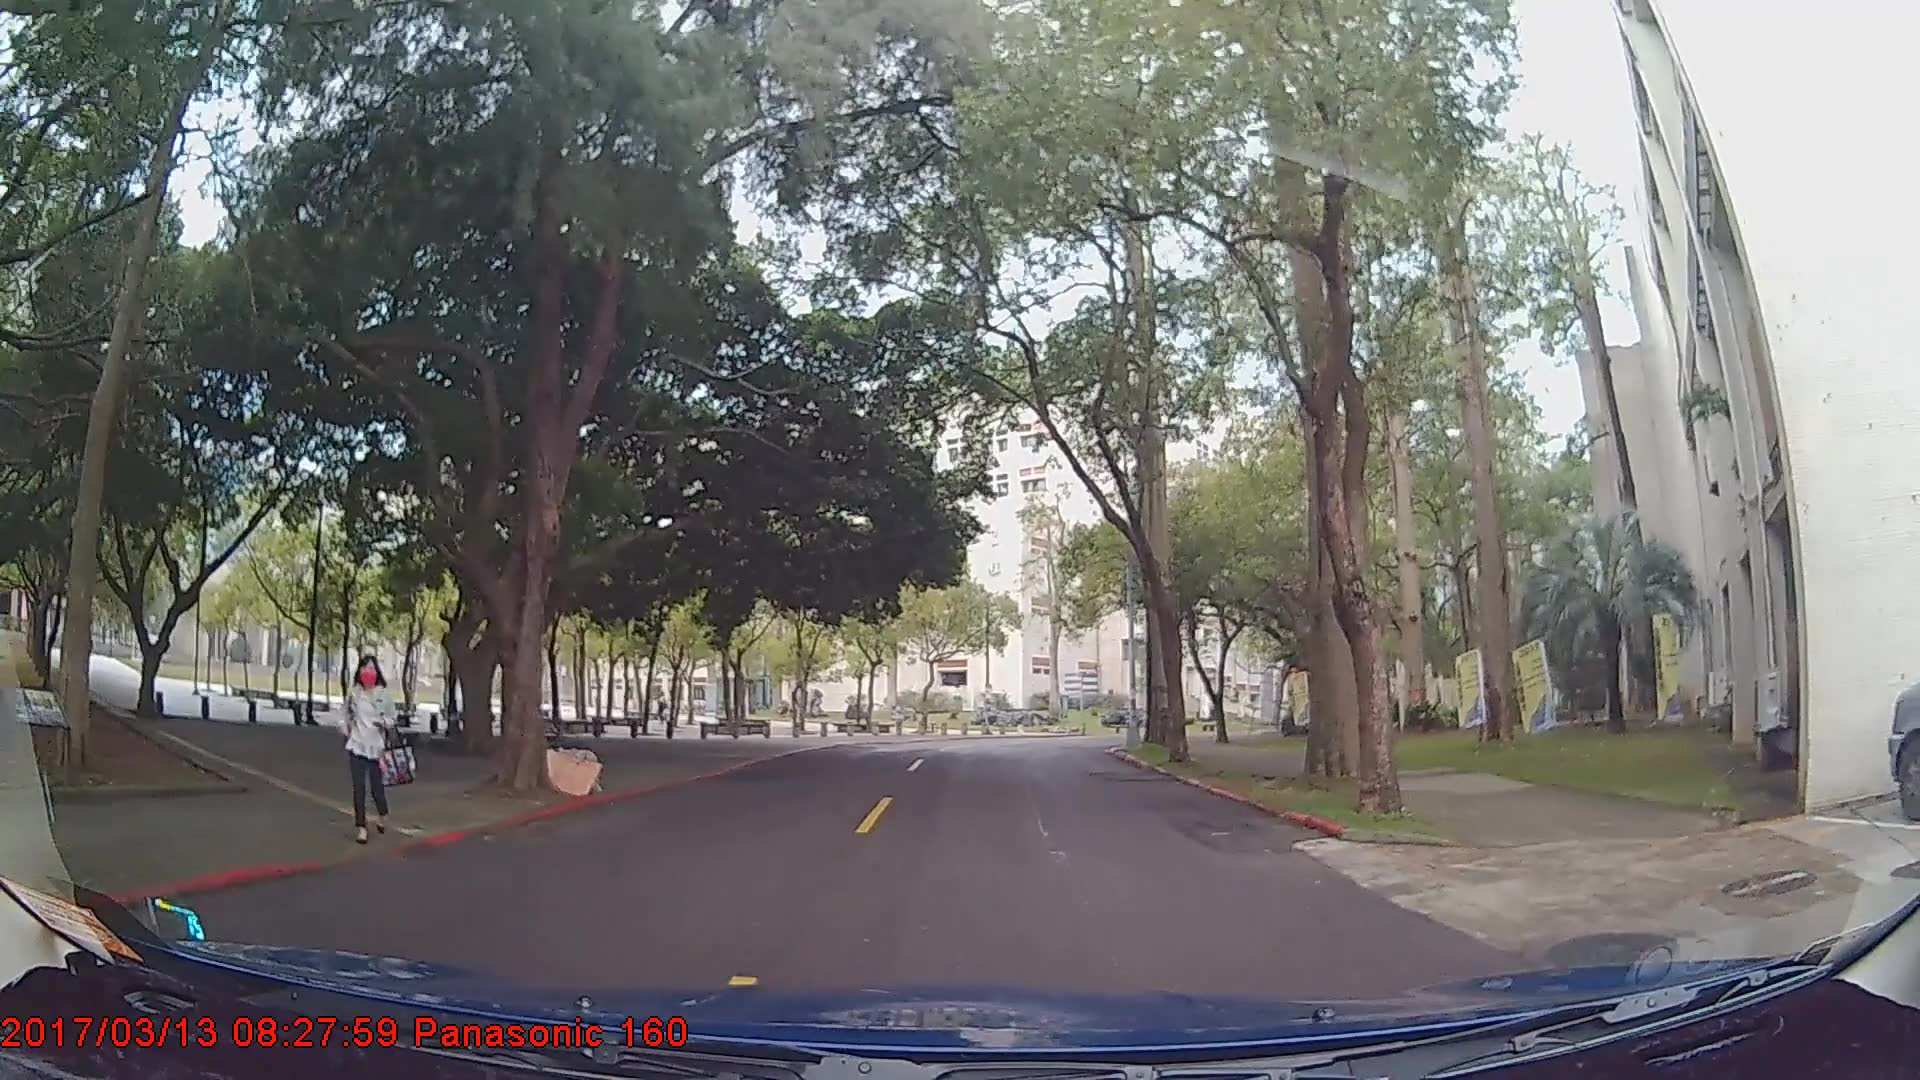pedestrian: (334, 645, 412, 841)
